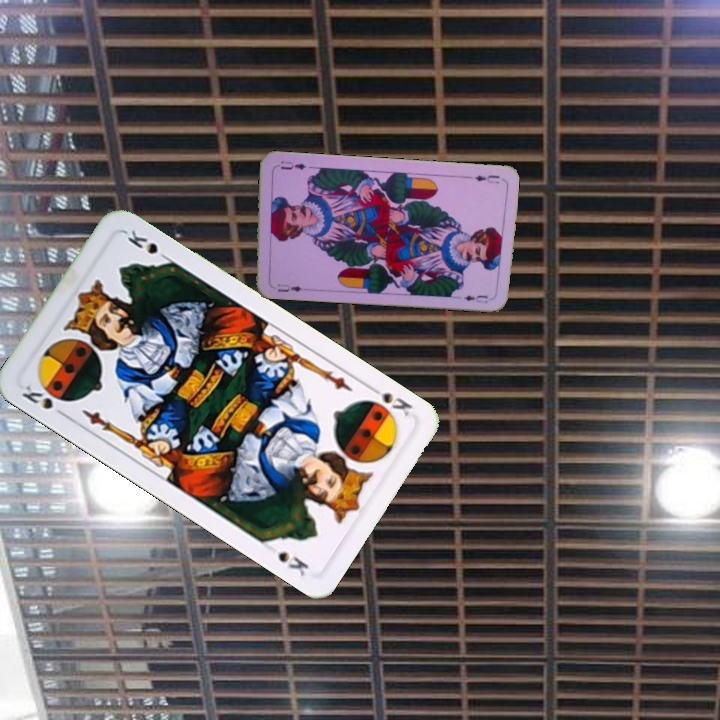EU: (470, 171, 502, 186), (273, 280, 304, 295)
SK: (17, 380, 73, 421), (364, 381, 415, 419)
